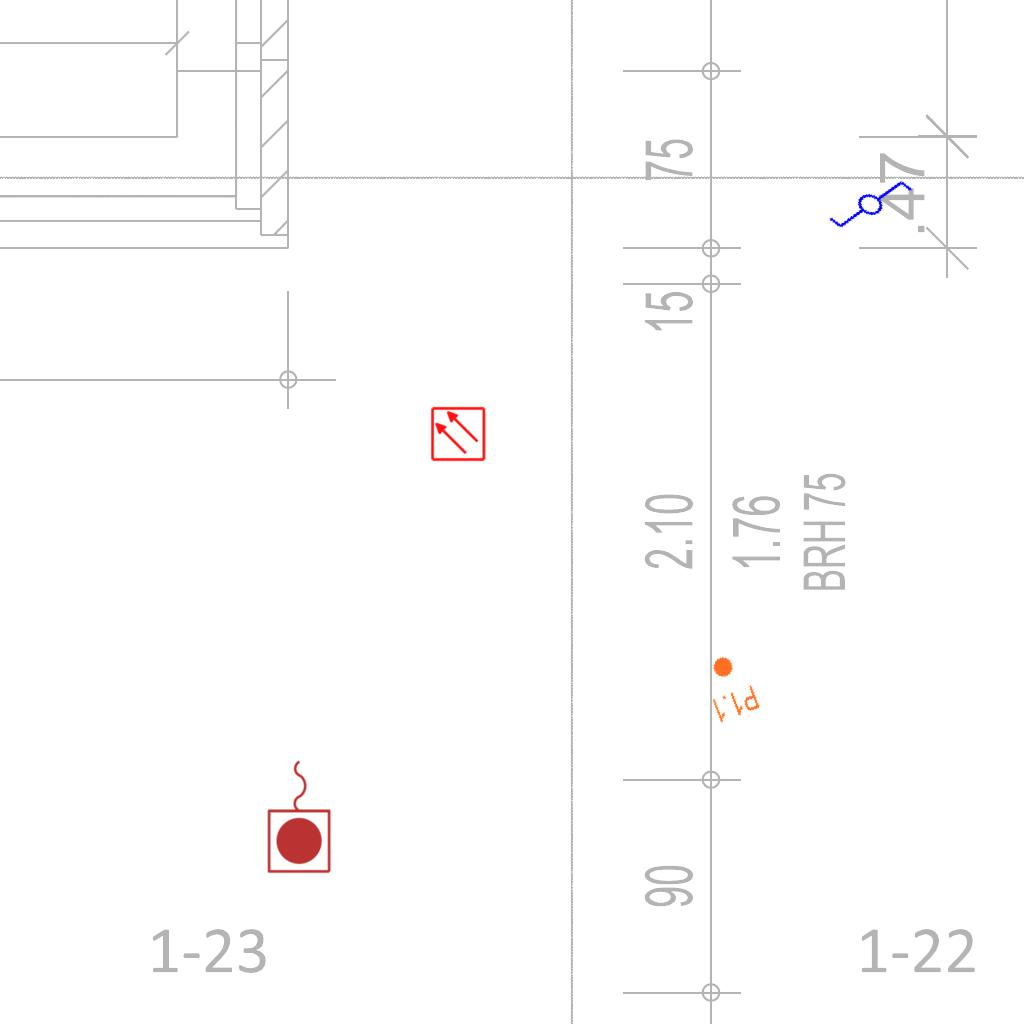Downlight_LED_Einbauleuchten_Flur: (696, 648, 762, 726)
RMO_Rauchmelder_optischer: (430, 406, 486, 462)
Wechselschalter: (817, 154, 917, 250)
Zugtaster: (264, 755, 336, 877)
